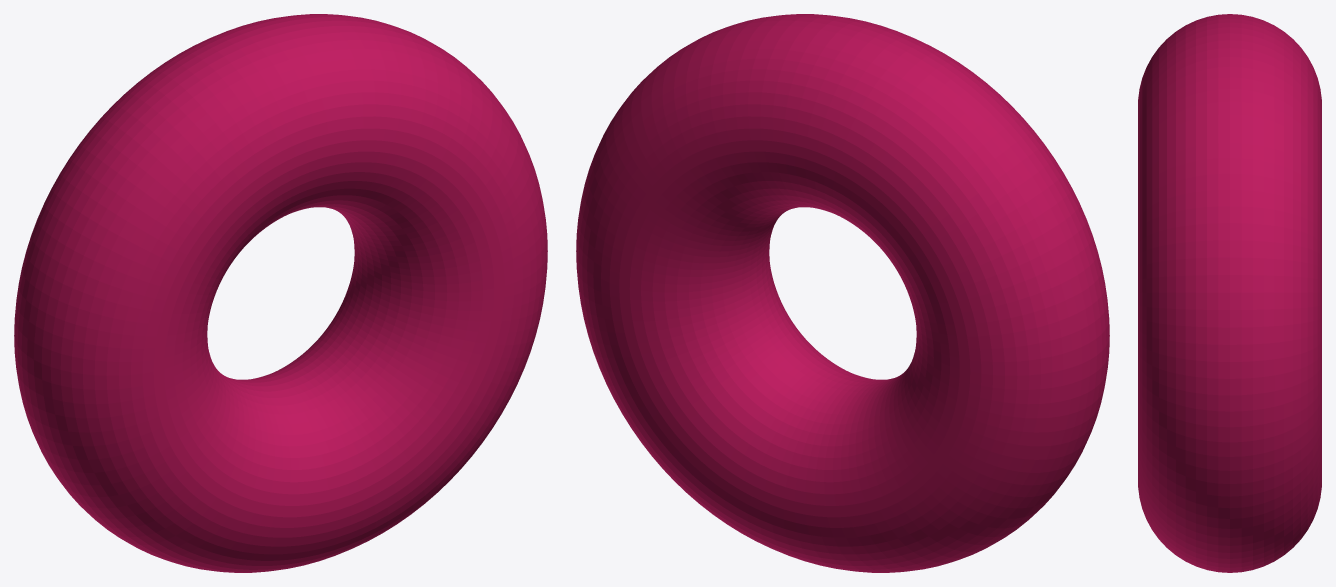
The picture shows the model from 3 angles, left to right: view 1: azimuth 30°, elevation 25°; view 2: azimuth 150°, elevation 25°; view 3: azimuth 270°, elevation 25°; orthographic projection. The views are drawn at different scales.
Parts seen in each view (by area): view 1: world; view 2: world; view 3: world.
Part boxes in pixels (x1=…): world: x1=14, y1=14, x2=547, y2=572; world: x1=576, y1=14, x2=1109, y2=572; world: x1=1138, y1=14, x2=1321, y2=572.
Size of the model in its own units: 23.87 by 23.87 by 7.85.
